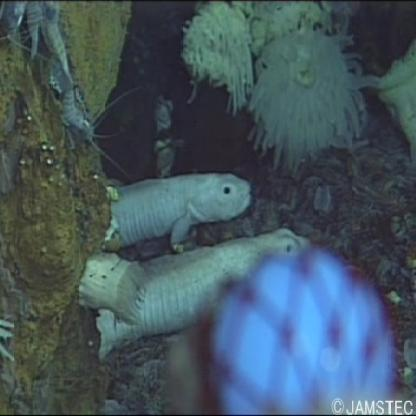Bio: (81, 168, 317, 361), (244, 25, 383, 174), (1, 1, 119, 168)
